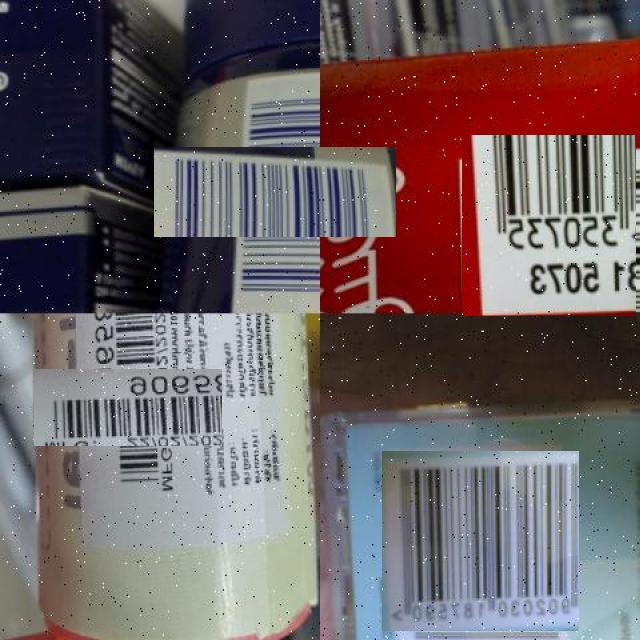Barcode: (387, 447, 576, 636), (461, 136, 638, 314), (191, 109, 358, 275), (62, 341, 194, 474)
